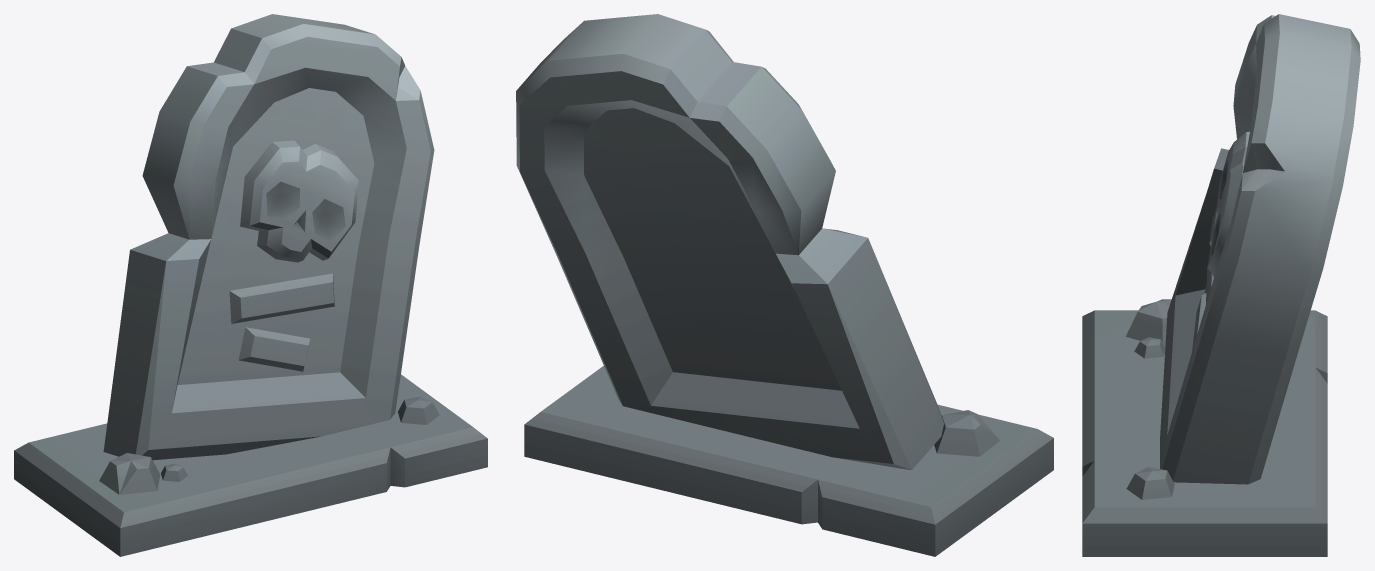
File: grave.glb
3 renders of one model, left to right at view 1: azimuth 30°, elevation 25°; view 2: azimuth 150°, elevation 25°; view 3: azimuth 270°, elevation 25°, orthographic. The views are drawn at different scales.
Parts seen in each view (by area): view 1: grave_A_destroyed; view 2: grave_A_destroyed; view 3: grave_A_destroyed.
Boxes of the visible parts, x1,y1,x2,y2 form: grave_A_destroyed: [14, 14, 487, 556]; grave_A_destroyed: [516, 14, 1053, 556]; grave_A_destroyed: [1082, 14, 1360, 556].
Size of the model in its own units: 2.08 by 2.11 by 1.14.
1 material, 1 textured.
